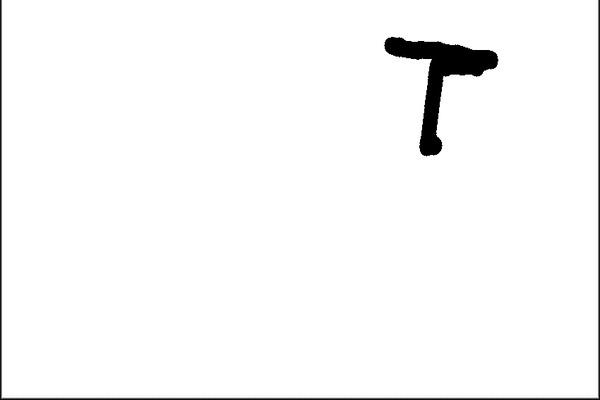T: (381, 31, 503, 165)
